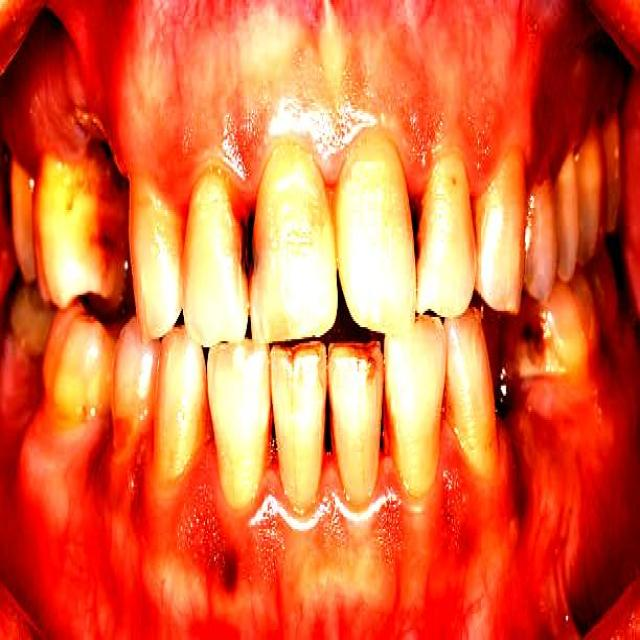caries: (229, 198, 275, 292), (514, 317, 555, 380)
